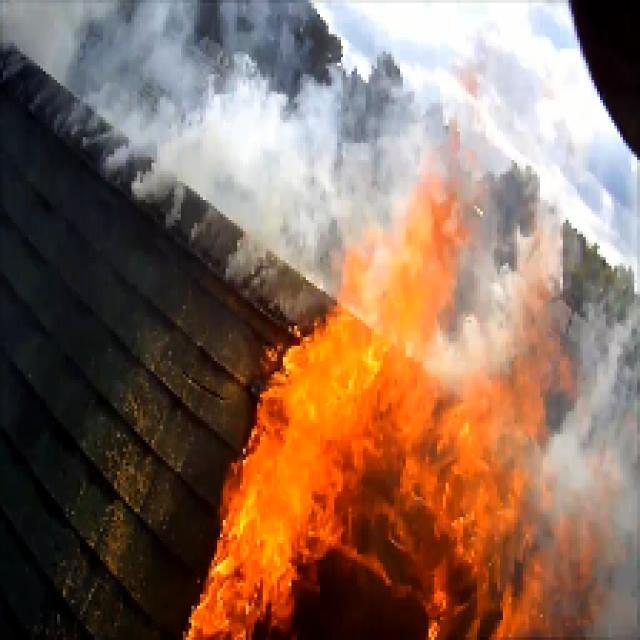Fire: (225, 311, 532, 638)
Smoke: (72, 9, 384, 205)
